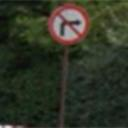NoVirarDireita: (49, 2, 93, 46)
